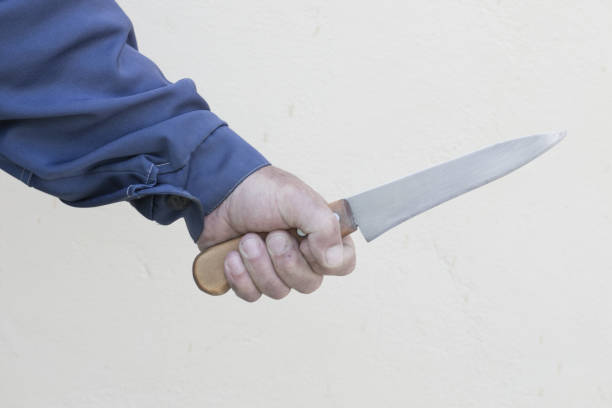knife: (189, 128, 570, 299)
